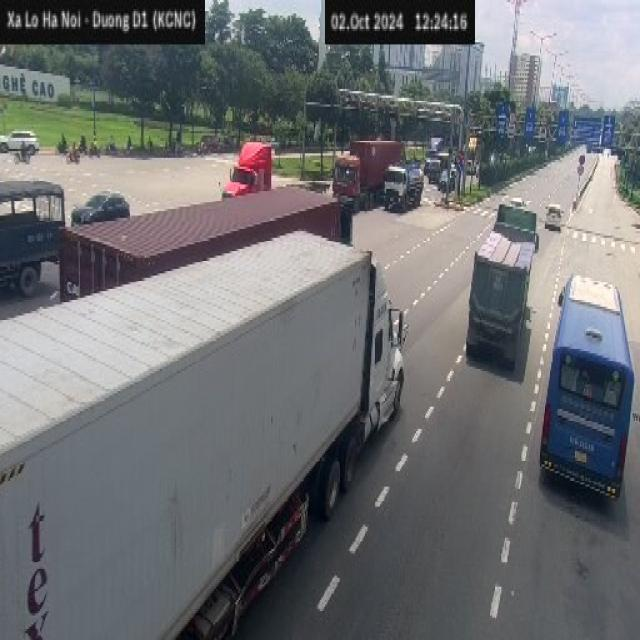bus: (538, 271, 634, 500)
car: (70, 191, 129, 225)
container-truck: (0, 227, 406, 638), (332, 125, 406, 208), (221, 141, 293, 207)
truck: (469, 186, 546, 364), (0, 176, 68, 292), (383, 162, 432, 221)
